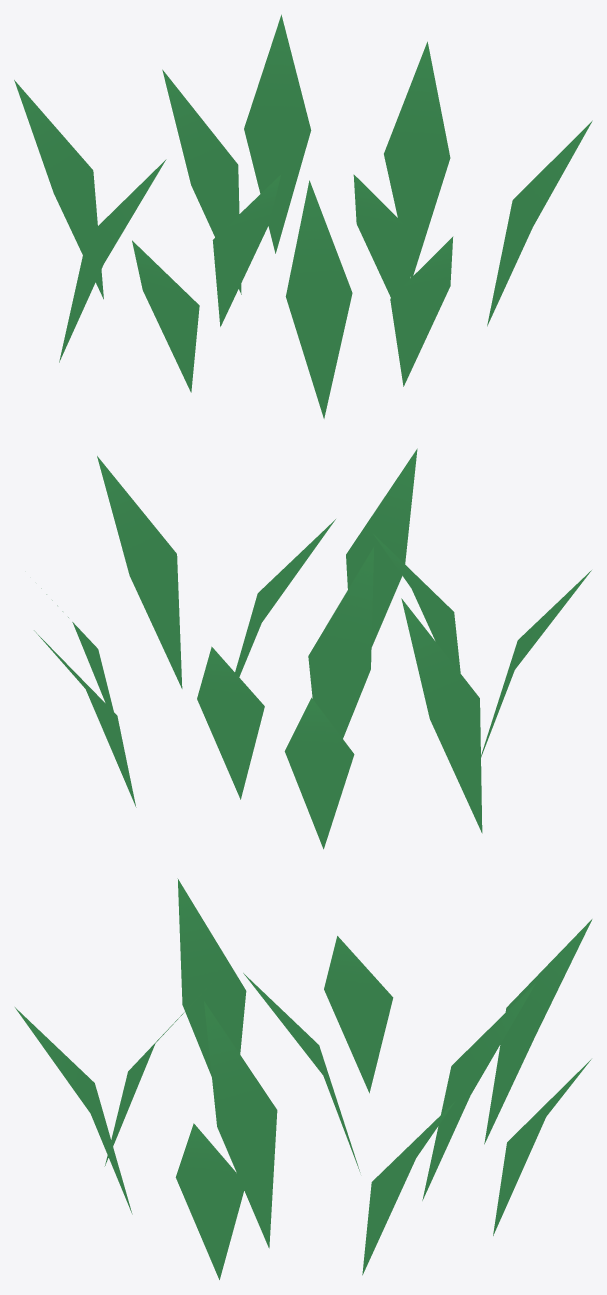
Rendered from Fbx_Grass102.fbx.
The picture shows the model from 3 angles, top to bottom: view 1: azimuth 30°, elevation 25°; view 2: azimuth 150°, elevation 25°; view 3: azimuth 270°, elevation 25°; orthographic projection. The views are drawn at different scales.
Parts seen in each view (by area): view 1: Plane266; view 2: Plane266; view 3: Plane266.
Part boxes in pixels (left/top/right/bottom): Plane266: left=14, top=14, right=592, bottom=418; Plane266: left=34, top=448, right=591, bottom=849; Plane266: left=15, top=878, right=592, bottom=1279.
Size of the model in its own units: 87.07 by 34.27 by 87.03.
